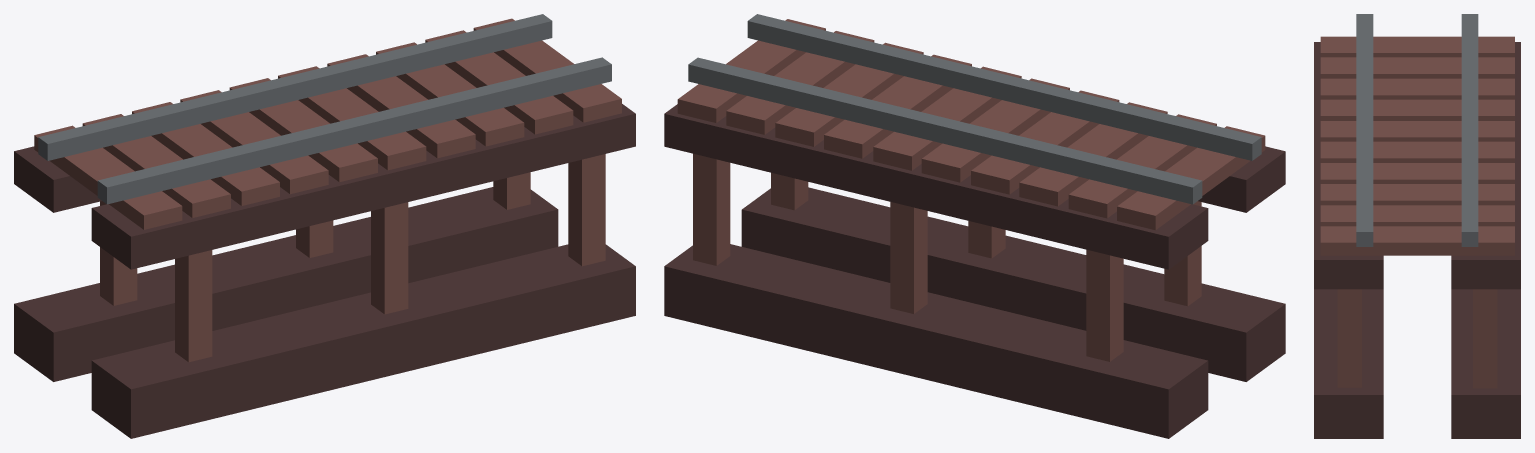
File: DarkRoseWoodMechSmall0_85GaugeStraight1.fbx
3 views of the same model, side by side, from view 1: azimuth 30°, elevation 25°; view 2: azimuth 150°, elevation 25°; view 3: azimuth 270°, elevation 25° (orthographic). The views are drawn at different scales.
Visible parts, largest first — view 1: DarkRoseWoodMechSmall0_85GaugeStraight1; view 2: DarkRoseWoodMechSmall0_85GaugeStraight1; view 3: DarkRoseWoodMechSmall0_85GaugeStraight1.
Part boxes in pixels (bbox=[...]): DarkRoseWoodMechSmall0_85GaugeStraight1: bbox=[14, 14, 635, 438]; DarkRoseWoodMechSmall0_85GaugeStraight1: bbox=[664, 14, 1285, 438]; DarkRoseWoodMechSmall0_85GaugeStraight1: bbox=[1314, 14, 1520, 438].
Size of the model in its own units: 499 by 221 by 200.
